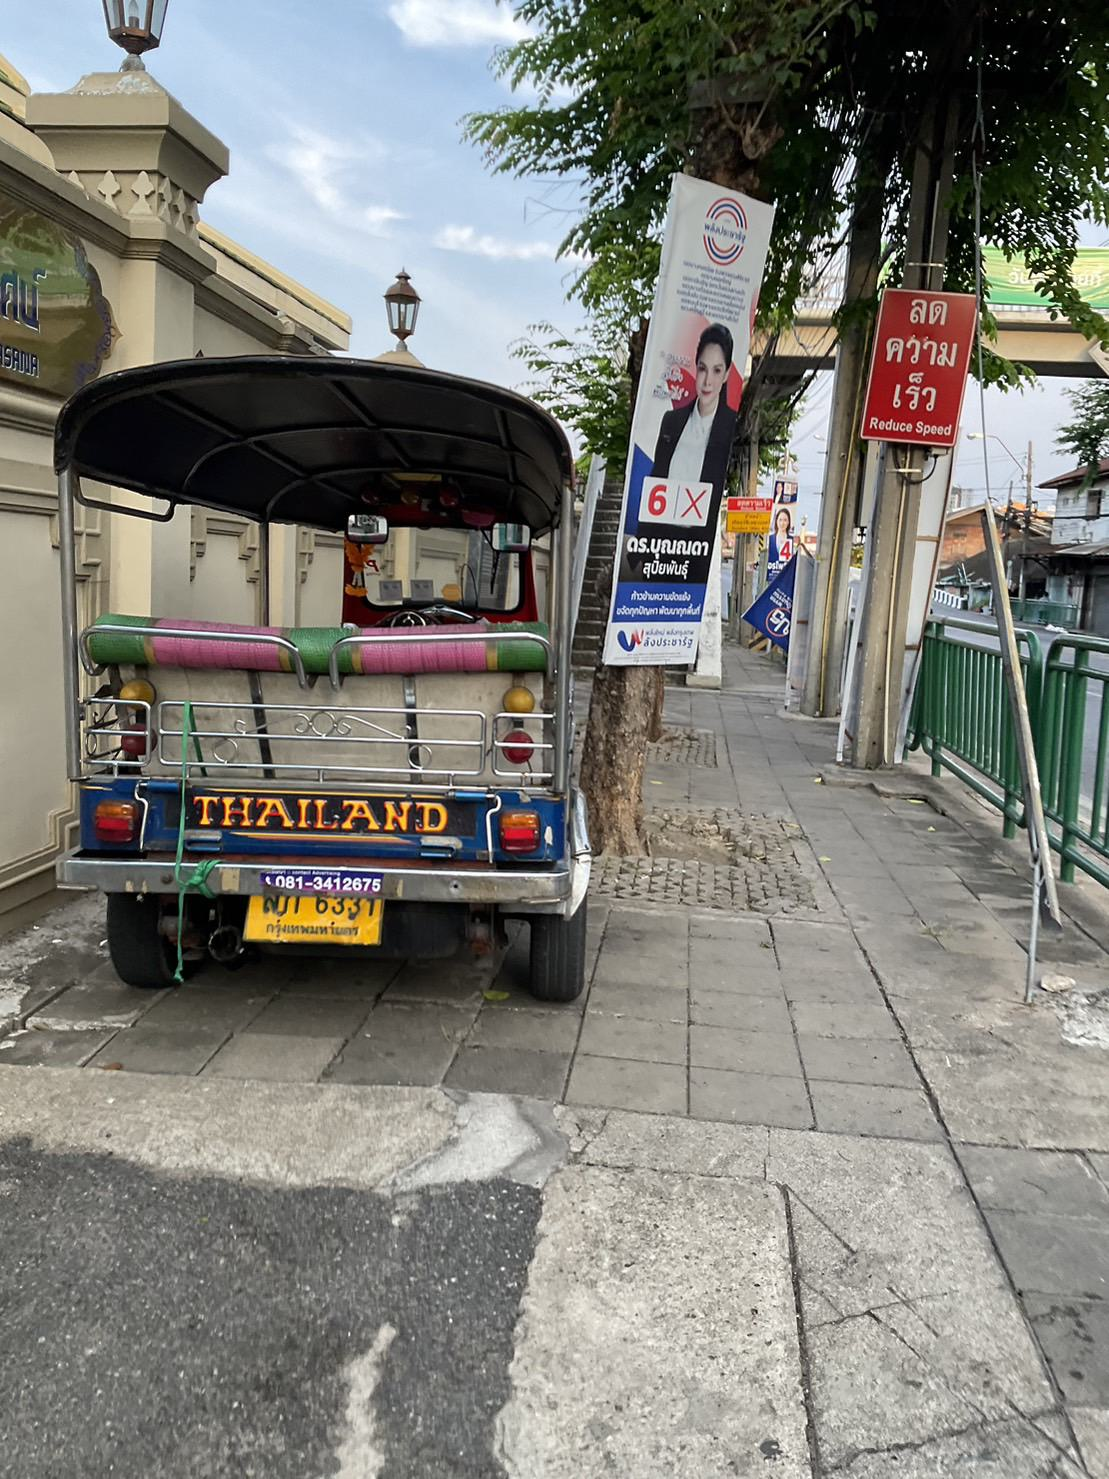Banner: (603, 163, 772, 681)
